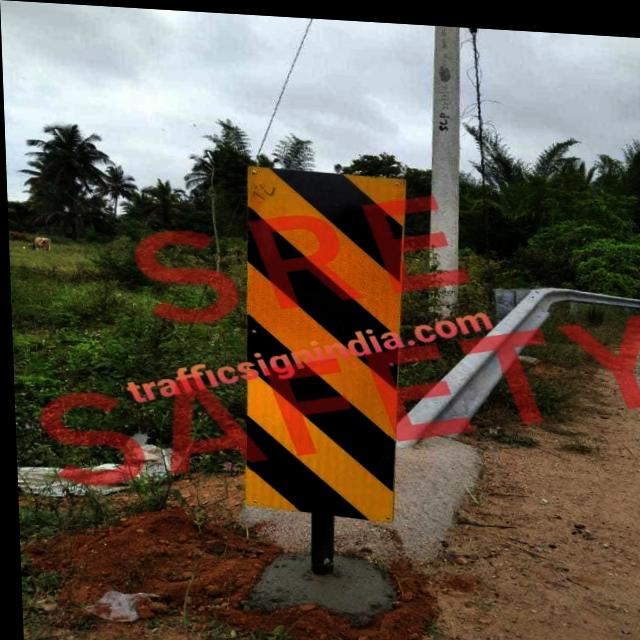OBJECT_HAZARD: (241, 163, 405, 517)
